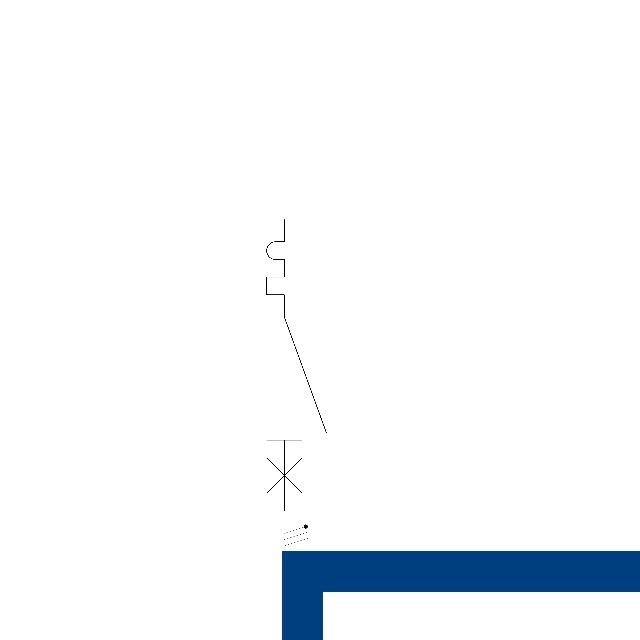interruptor_termomagnetico: (259, 212, 334, 518)
